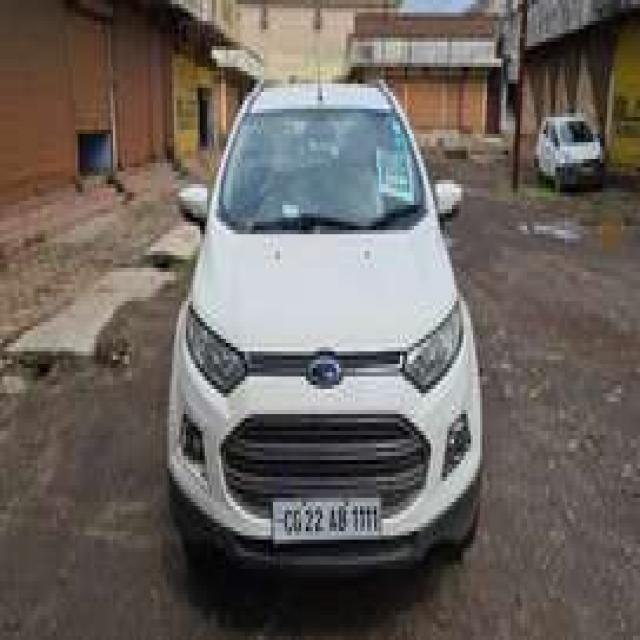license-plate: (270, 490, 376, 536)
